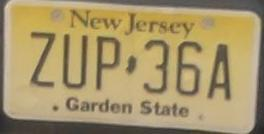placa de veiculo: (7, 3, 249, 130)
